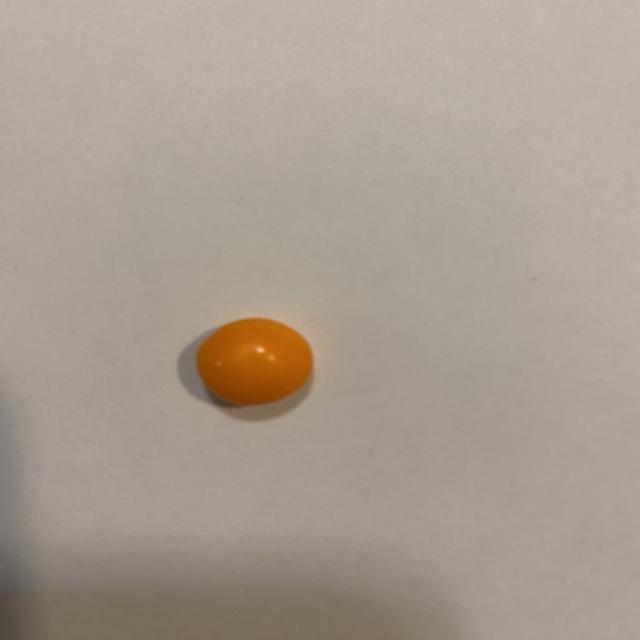smartie: (194, 318, 315, 408)
